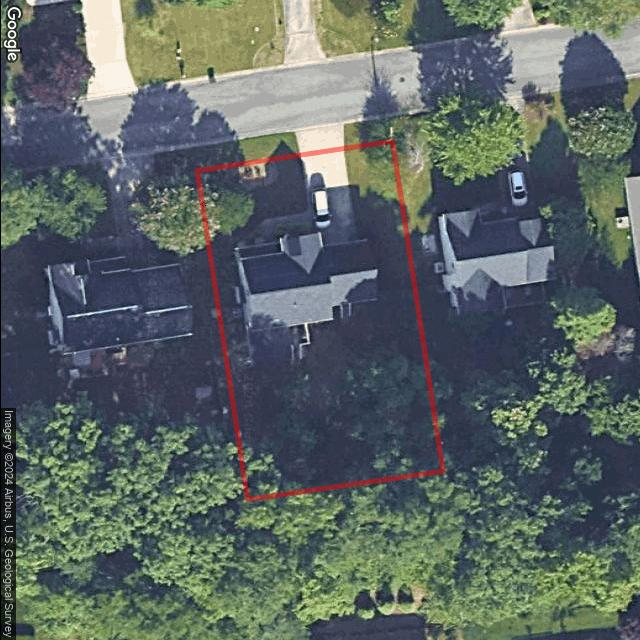Driveway: (300, 150, 357, 247)
Extra-Driveway: (292, 124, 344, 155)
Extra-Lawn: (191, 133, 299, 172), (343, 119, 393, 149)
House: (230, 231, 379, 368)
Lawn: (196, 141, 443, 500)
Other: (237, 161, 277, 190), (233, 220, 264, 246), (228, 281, 244, 323), (275, 224, 313, 239)
Sidewalk: (262, 212, 310, 243)
